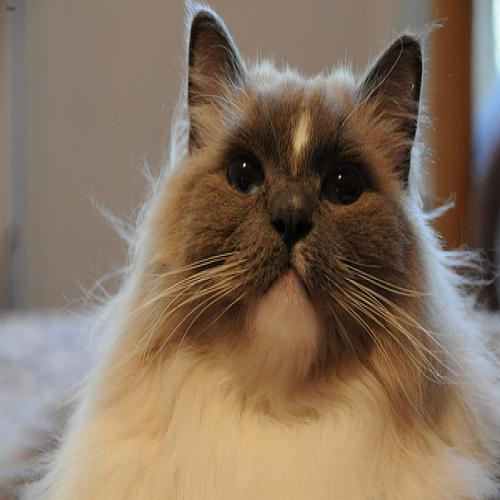ragdoll: (148, 1, 439, 409)
